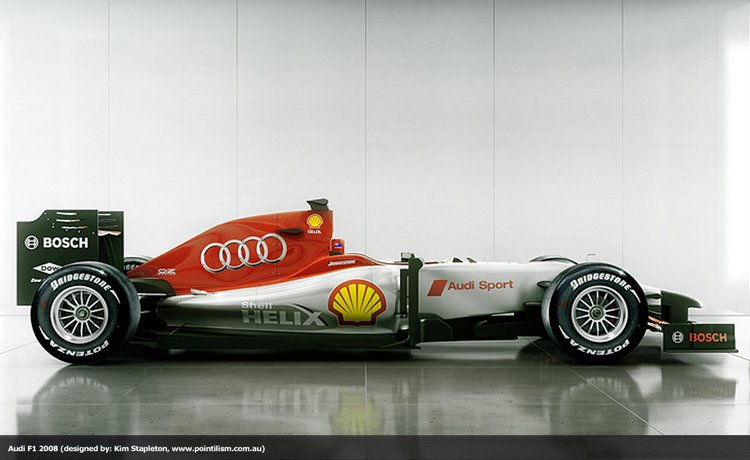f1_car: (5, 192, 745, 379)
